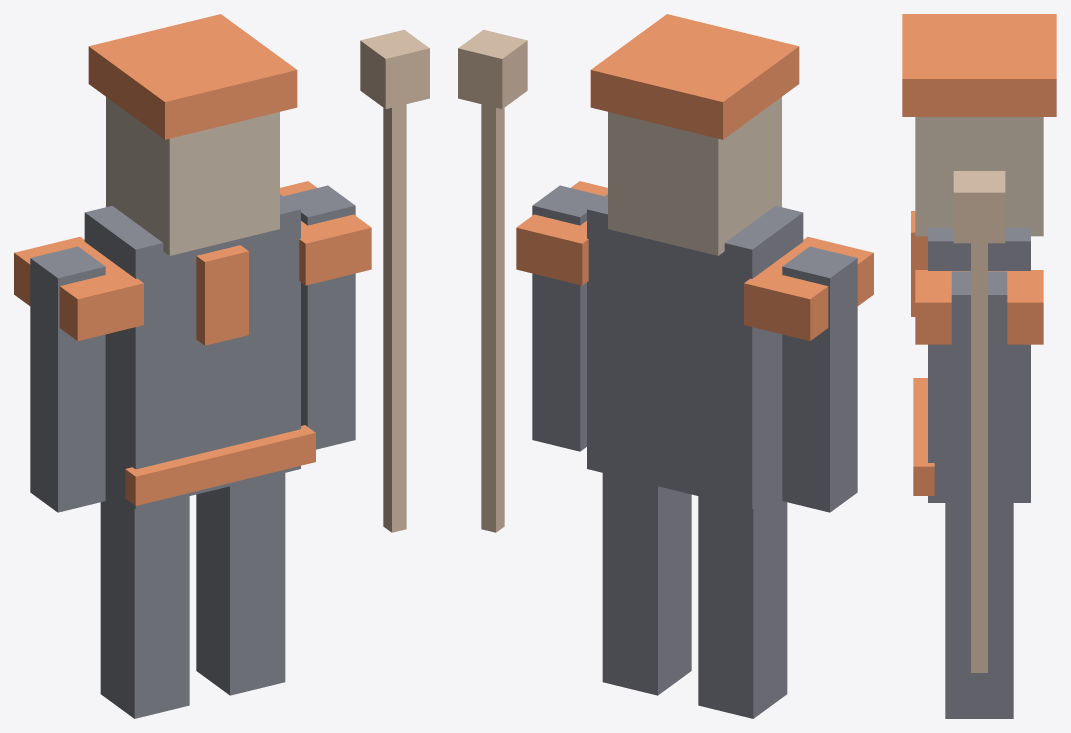
File: 15_sarai_dubwater_guide_under_ter.glb
3 views of the same model, side by side, from view 1: azimuth 30°, elevation 25°; view 2: azimuth 150°, elevation 25°; view 3: azimuth 270°, elevation 25° (orthographic).
Visible parts, largest first — view 1: Sarai Dubwater, Guide under Ter; view 2: Sarai Dubwater, Guide under Ter; view 3: Sarai Dubwater, Guide under Ter.
Boxes of the visible parts, x1=… form: Sarai Dubwater, Guide under Ter: x1=14, y1=14, x2=429, y2=718; Sarai Dubwater, Guide under Ter: x1=458, y1=14, x2=873, y2=718; Sarai Dubwater, Guide under Ter: x1=902, y1=14, x2=1056, y2=718.
Size of the model in its own units: 0.9751 by 1.57 by 0.3458.
